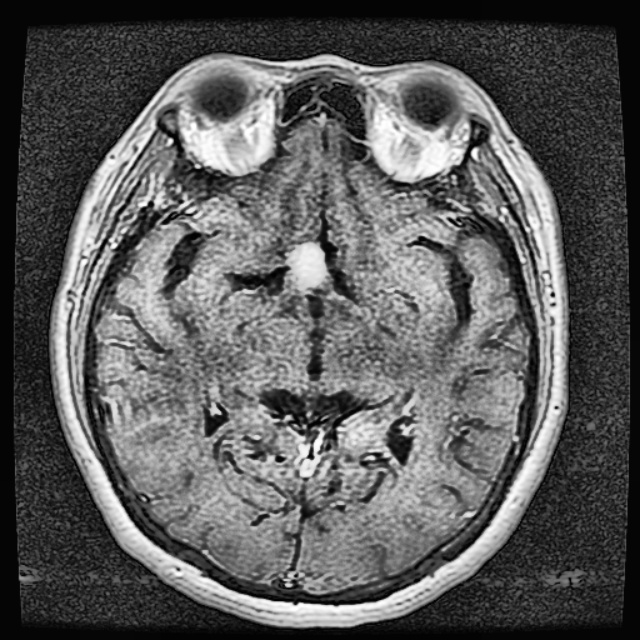Pituitary: (287, 242, 327, 288)
